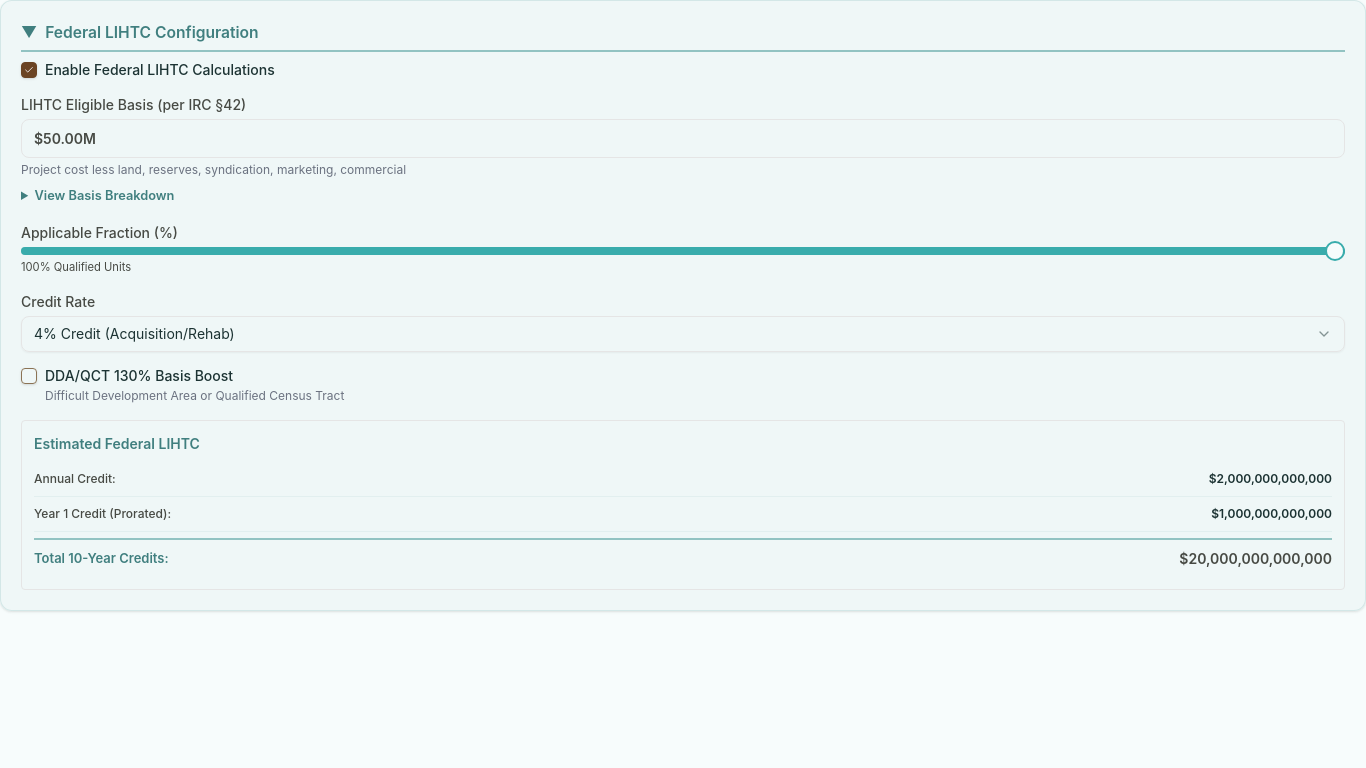
Test: LIHTCStructureSection › Basis Breakdown Display › should display project cost in breakdown
// Click to expand breakdown
Click the heading "View Basis Breakdown" at (104, 196), box [34,188,174,203]
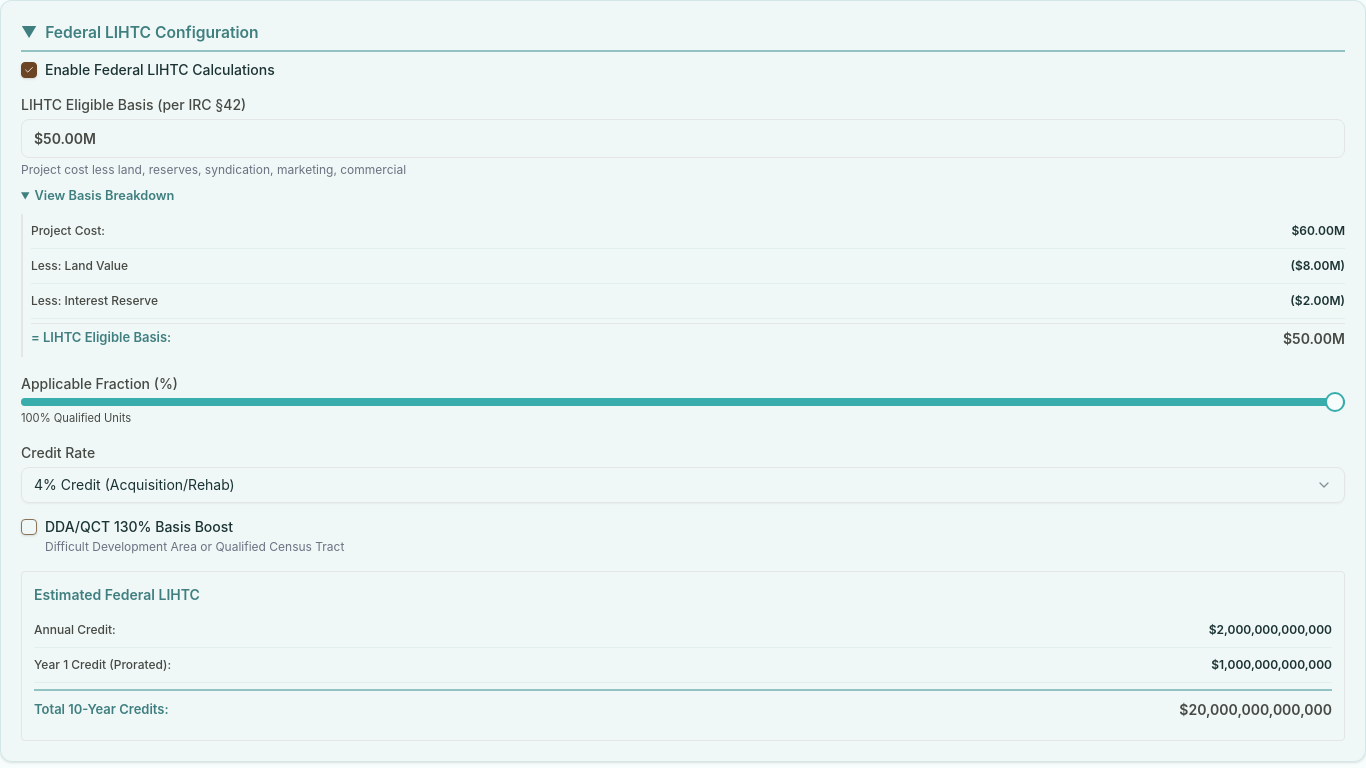
Expected: the text "Project Cost:" is shown, [31,223,105,238]
